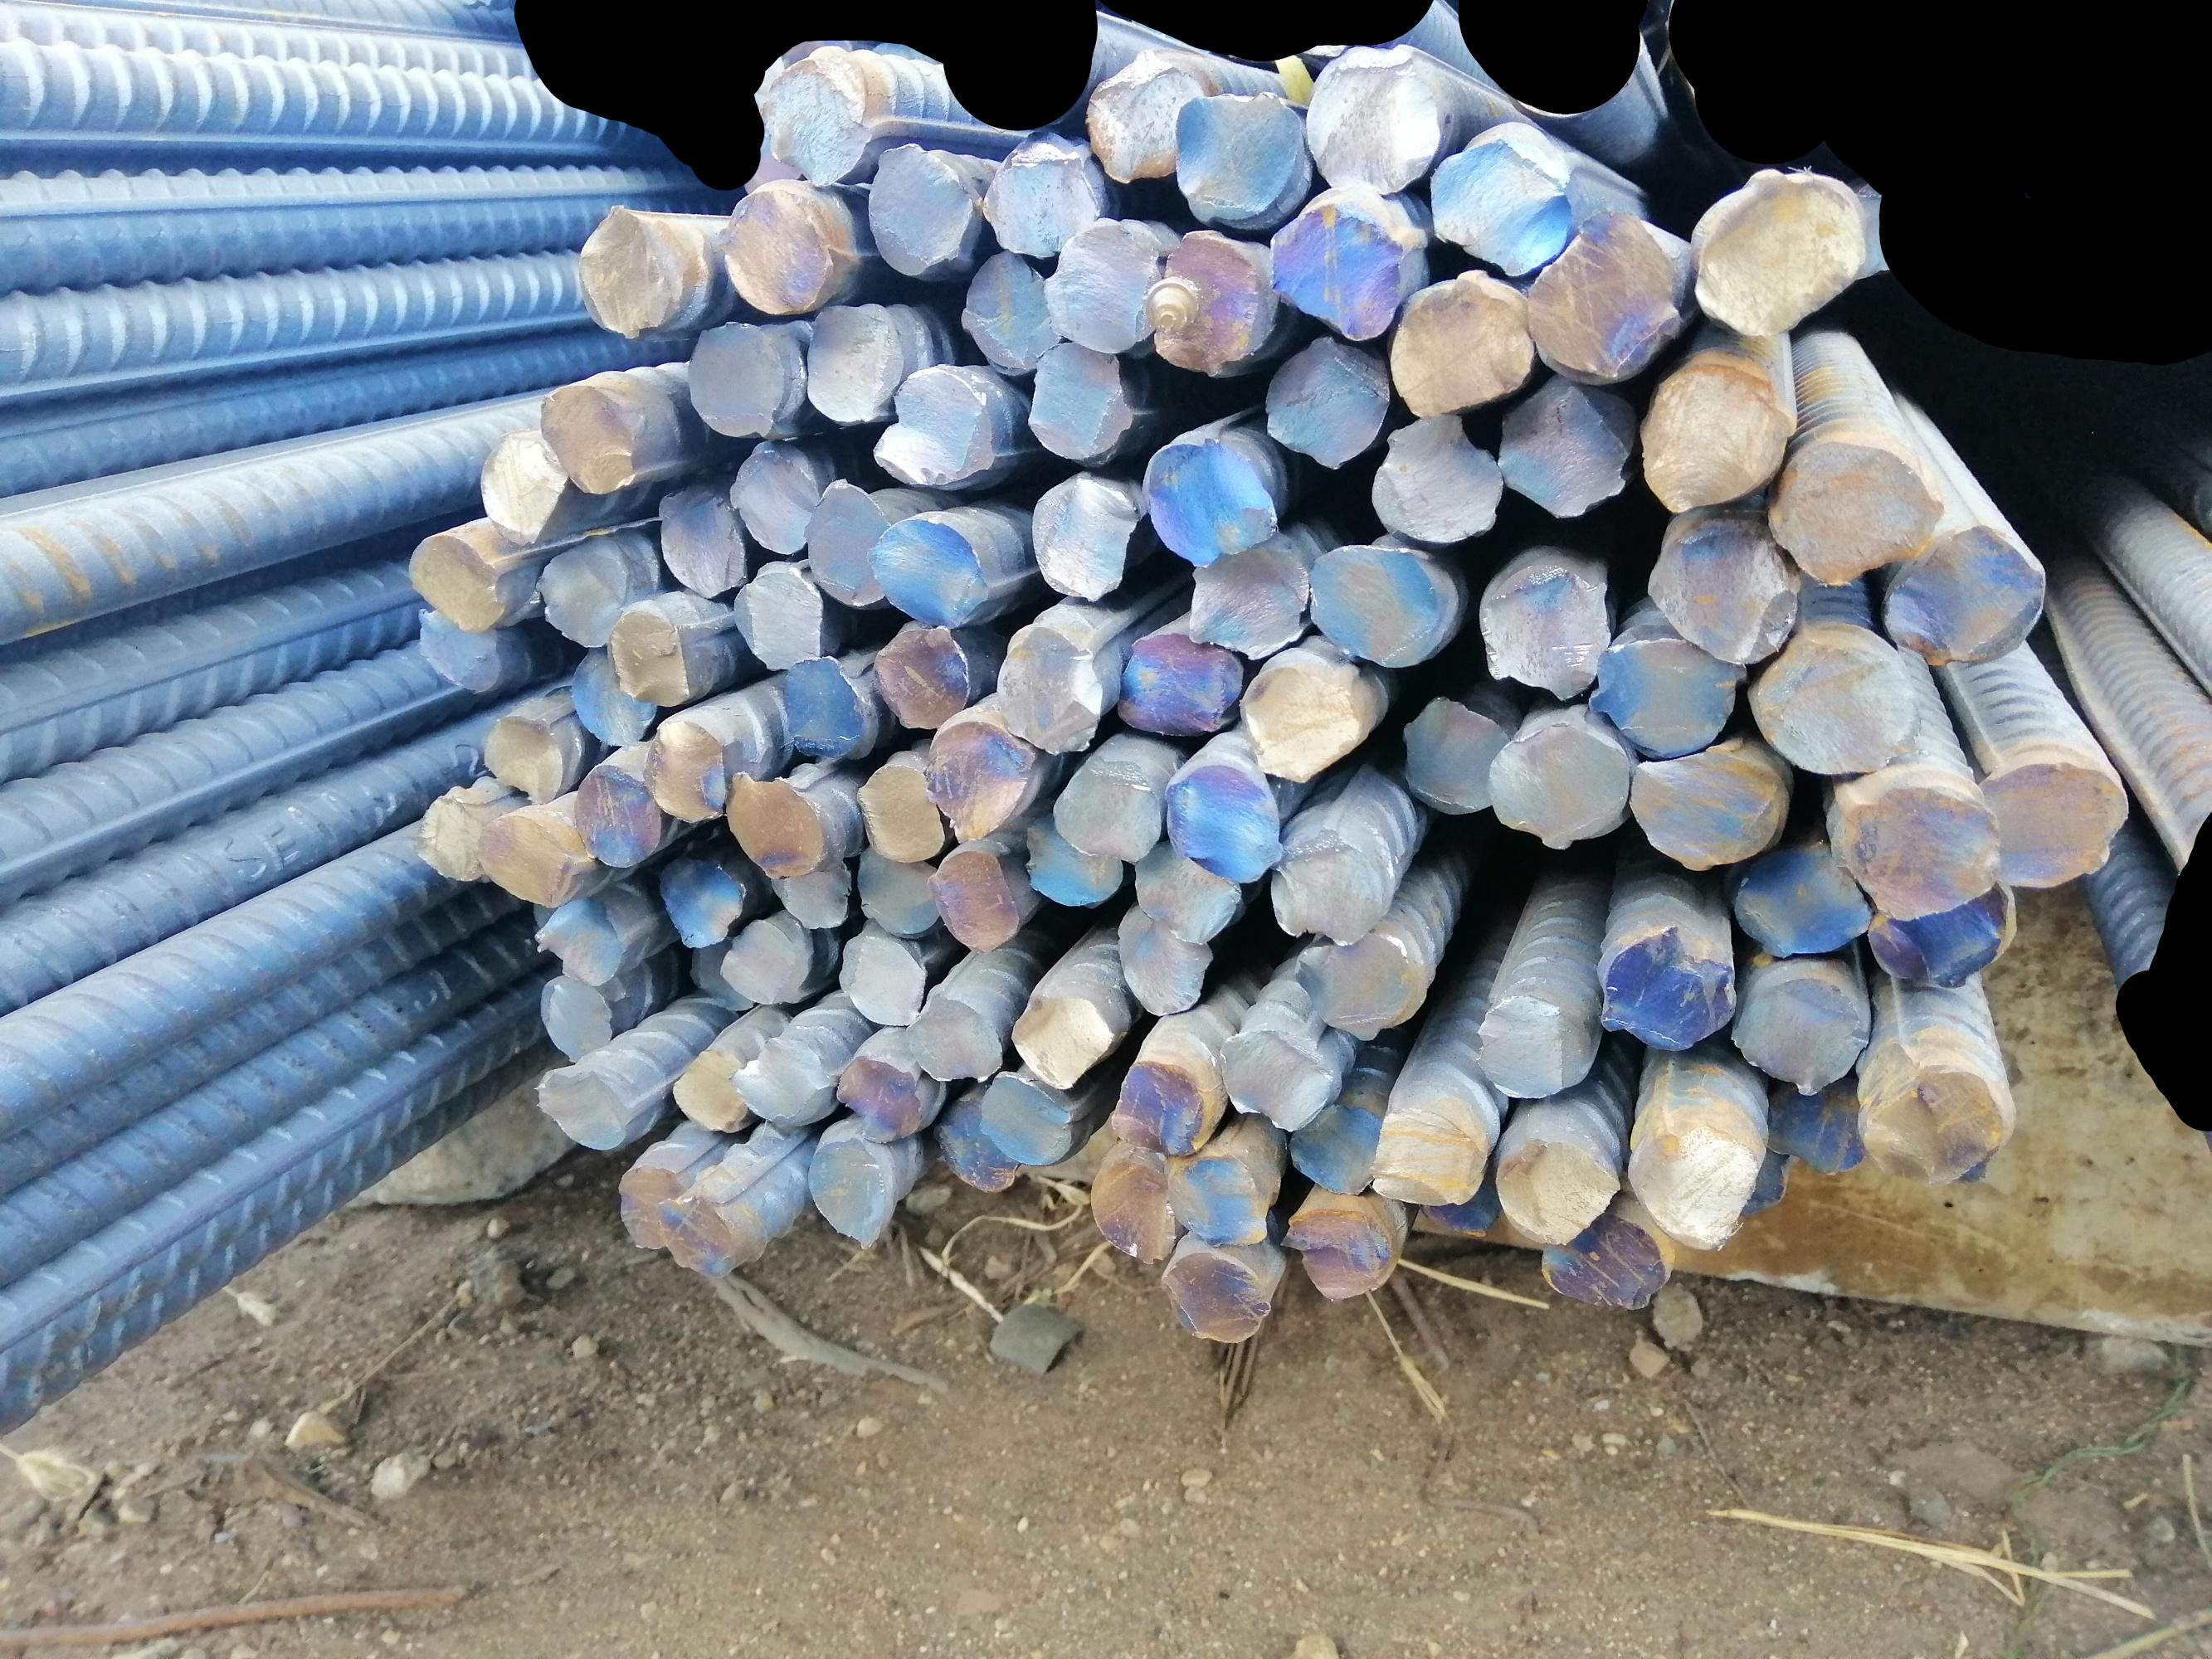bar: (1691, 162, 1874, 340), (1762, 432, 1944, 589), (1883, 521, 2052, 674), (1525, 211, 1677, 380), (1750, 627, 1919, 775), (1829, 777, 2001, 917), (1639, 366, 1797, 516), (1300, 42, 1447, 195), (1853, 1051, 2010, 1190), (1269, 186, 1410, 338), (1647, 525, 1801, 664), (1428, 131, 1571, 277), (1393, 277, 1541, 416), (1860, 875, 2027, 995), (1497, 369, 1630, 521), (1982, 755, 2130, 889), (1138, 427, 1279, 566), (1590, 634, 1748, 758), (1623, 1108, 1762, 1248), (1626, 751, 1787, 871), (1475, 563, 1611, 701), (1483, 718, 1626, 849), (1731, 958, 1867, 1094), (1154, 230, 1281, 373), (1170, 89, 1302, 223), (1367, 415, 1503, 545), (1595, 924, 1738, 1047), (1264, 333, 1394, 465), (1311, 540, 1442, 671), (1731, 840, 1870, 960), (1238, 659, 1365, 786), (1046, 220, 1163, 356), (760, 49, 875, 183), (980, 134, 1102, 260), (1185, 535, 1311, 657), (1089, 44, 1196, 185), (1489, 1131, 1621, 1244), (1157, 763, 1283, 882), (866, 138, 971, 279), (875, 366, 997, 484), (1269, 826, 1386, 950), (1030, 471, 1140, 601), (1473, 986, 1598, 1100), (722, 188, 831, 317), (572, 202, 675, 340), (997, 620, 1103, 753), (1396, 694, 1513, 814), (926, 713, 1032, 843), (866, 516, 992, 626), (1030, 335, 1135, 464), (1365, 1103, 1490, 1209), (1220, 1018, 1332, 1134), (1119, 634, 1245, 735), (964, 249, 1060, 380), (537, 375, 638, 498), (1537, 1209, 1663, 1309), (1051, 755, 1164, 863), (685, 317, 784, 439), (1757, 1070, 1869, 1178), (797, 476, 887, 608), (1117, 901, 1217, 1021), (1297, 936, 1410, 1040), (1281, 1201, 1396, 1304), (802, 301, 899, 422), (1004, 988, 1112, 1094), (872, 615, 969, 732), (474, 427, 570, 545), (1163, 1241, 1269, 1347), (650, 483, 750, 596), (720, 770, 823, 878), (408, 523, 502, 640), (1086, 1147, 1178, 1265), (532, 540, 633, 648), (1130, 843, 1241, 941), (1110, 1054, 1210, 1161), (805, 1131, 891, 1253), (1163, 1145, 1265, 1246), (725, 443, 819, 552), (924, 1093, 1021, 1195), (973, 1068, 1070, 1171), (926, 847, 1020, 953), (572, 760, 662, 870), (723, 1033, 830, 1126), (535, 1054, 631, 1155), (901, 990, 1002, 1086), (467, 812, 570, 906), (605, 605, 695, 711), (732, 563, 823, 667), (1021, 814, 1123, 906), (831, 934, 927, 1030), (643, 714, 727, 824), (1290, 1098, 1382, 1197), (852, 836, 941, 939), (783, 647, 861, 762), (854, 763, 943, 864), (479, 701, 567, 802), (567, 648, 655, 746), (718, 913, 811, 1006), (828, 1051, 920, 1141), (655, 856, 746, 946), (411, 606, 504, 695), (532, 896, 624, 983), (650, 1190, 736, 1284), (664, 1046, 750, 1134), (760, 854, 854, 934), (410, 791, 488, 885), (532, 967, 610, 1061), (619, 1157, 687, 1253), (678, 936, 751, 1014)
